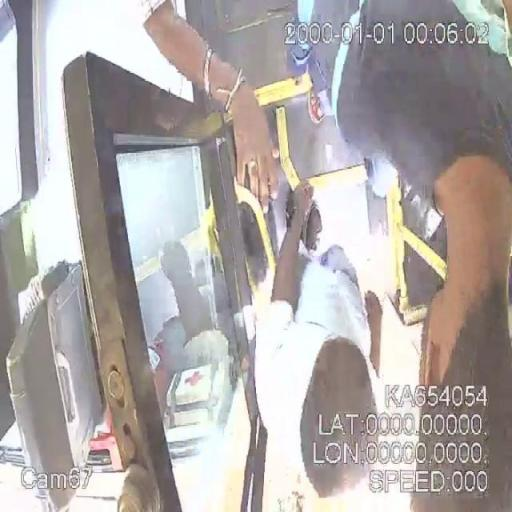persona: (286, 1, 511, 512), (252, 178, 383, 510)
